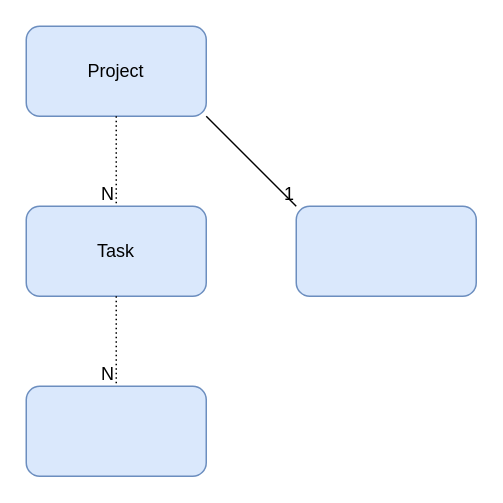
Some shapes in this 503 by 503 pixel diagram are drawn without their labels. The box of each missing label's shape, as (x1, y1, x2, y2) in pixels:
Job: (25, 385, 206, 476)
Parameter: (295, 205, 476, 296)
